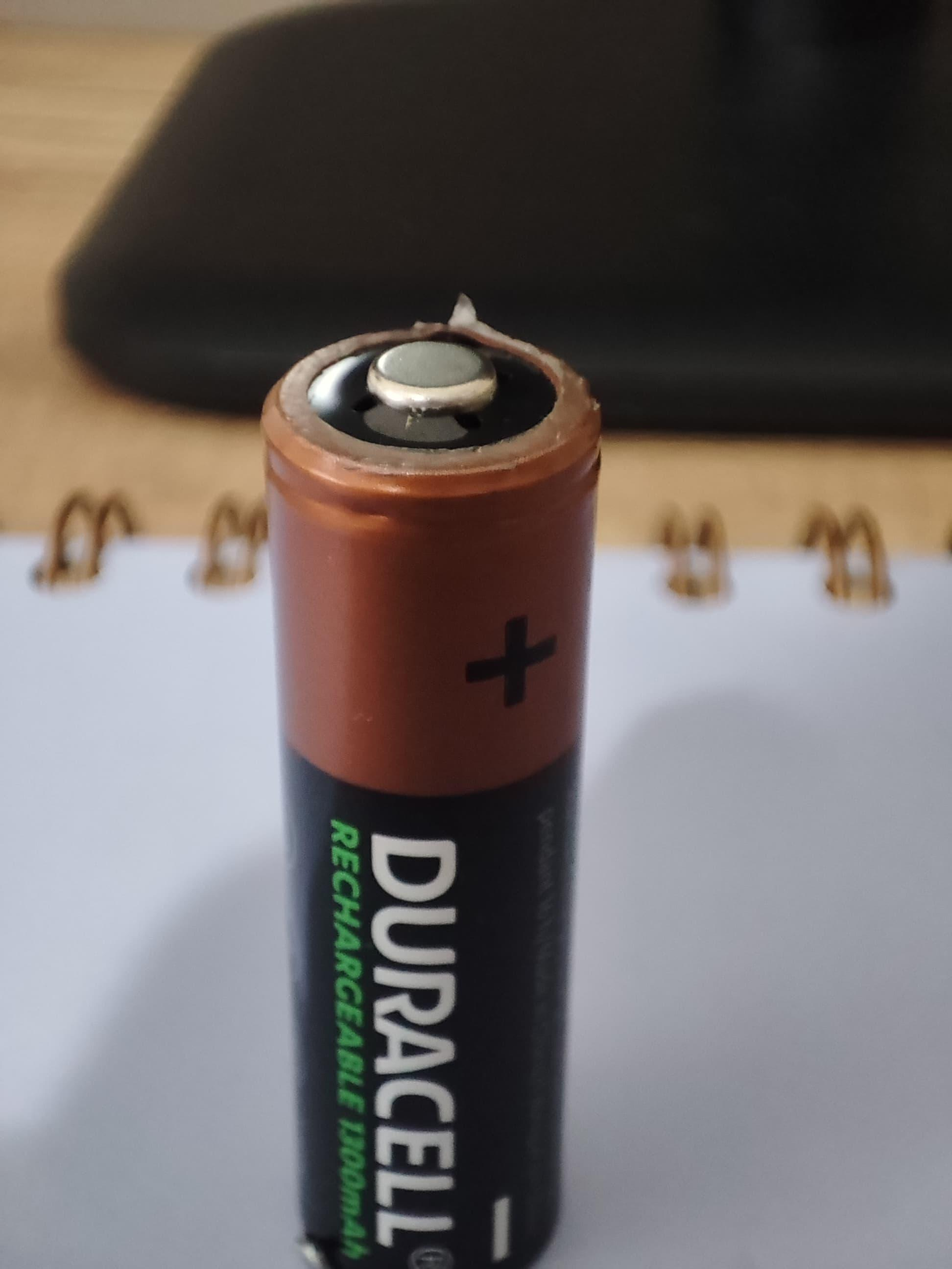AA: (258, 294, 603, 1267)
